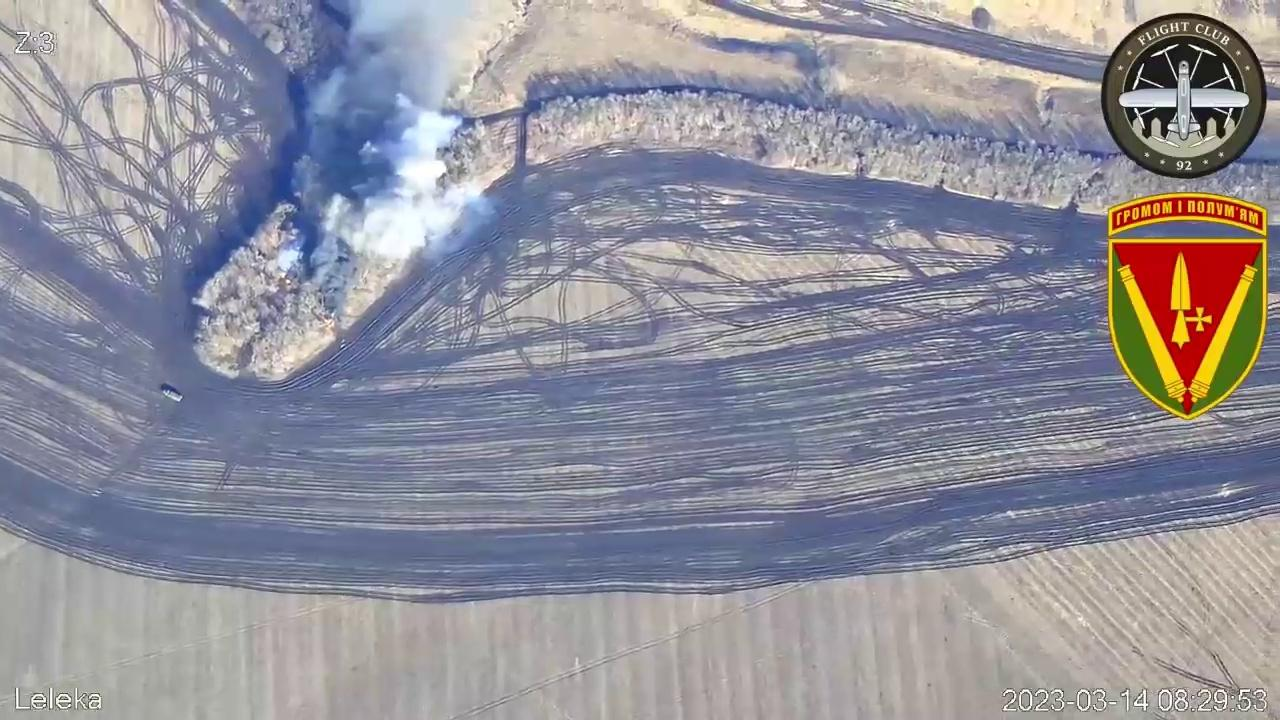vehicle: (159, 386, 182, 402)
